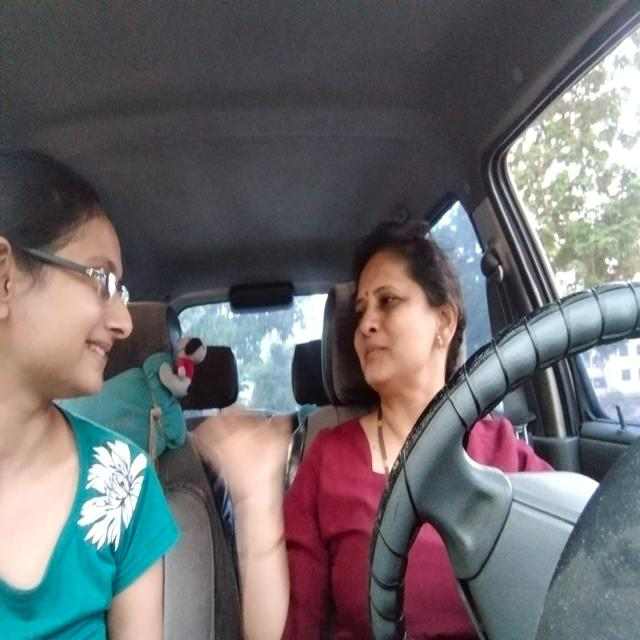LeftRight: (345, 220, 470, 417)
person: (0, 145, 141, 432)
